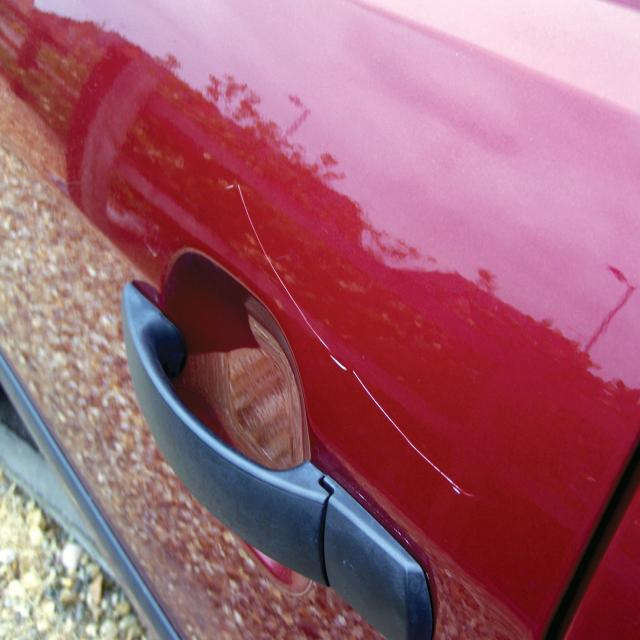scratch: (237, 182, 479, 500)
